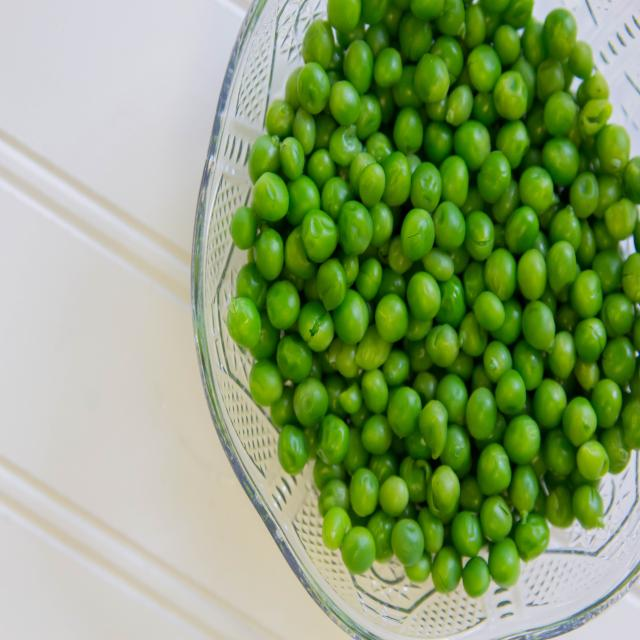Peas: (275, 0, 640, 563)
